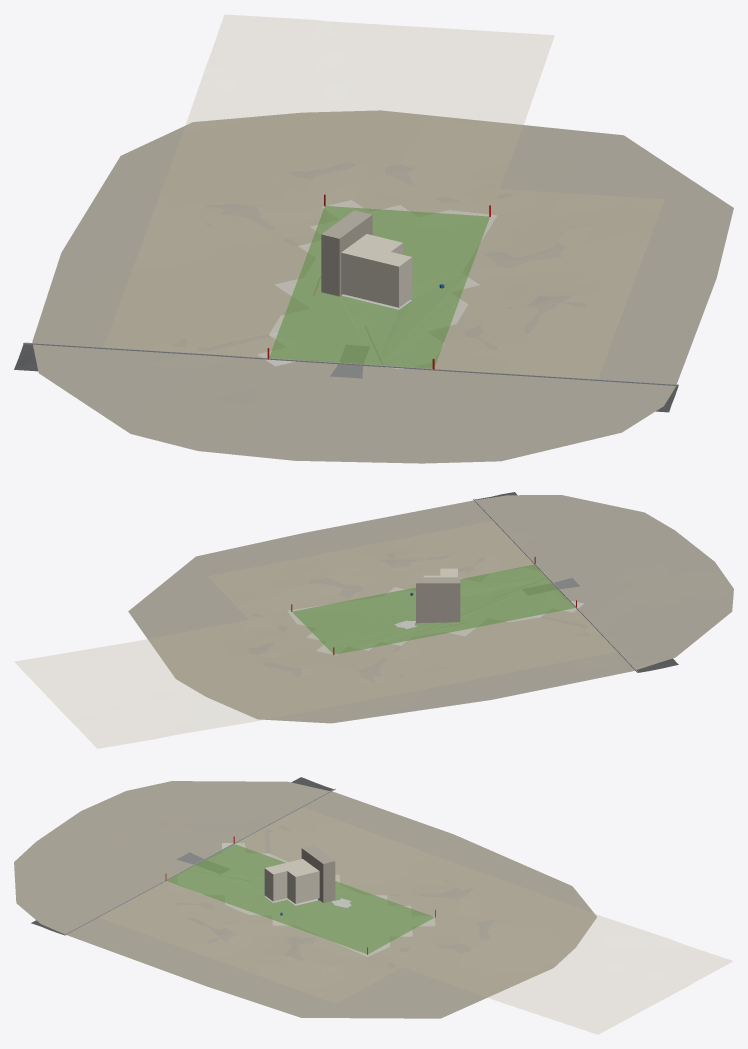
Rendered from site_5a0e2e11_glb.glb.
3 views of the same model, one above another, from view 1: azimuth 30°, elevation 25°; view 2: azimuth 150°, elevation 25°; view 3: azimuth 270°, elevation 25° (orthographic). The views are drawn at different scales.
Visible parts, largest first — view 1: Existing_ground_context, Adjoining_fill_1, Adjoining_fill_2, Adjoining_fill_0, FS_surface, ai_landscape_1, building_mv8vq97i0jw8, building, Kerb_assumed, ai_landscape_2, Driveway; view 2: Existing_ground_context, Adjoining_fill_1, Adjoining_fill_2, Adjoining_fill_0, FS_surface, ai_landscape_1, building, ai_landscape_2; view 3: Existing_ground_context, Adjoining_fill_1, Adjoining_fill_2, Adjoining_fill_0, FS_surface, ai_landscape_1, building_mv8vq97i0jw8, building, ai_landscape_2, Kerb_assumed.
Part boxes in pixels (x1=…): Existing_ground_context: x1=32, y1=110, x2=733, y2=463; Adjoining_fill_1: x1=160, y1=14, x2=554, y2=215; Adjoining_fill_2: x1=435, y1=189, x2=663, y2=378; Adjoining_fill_0: x1=104, y1=196, x2=324, y2=357; FS_surface: x1=257, y1=200, x2=497, y2=369; ai_landscape_1: x1=269, y1=206, x2=489, y2=368; building_mv8vq97i0jw8: x1=341, y1=234, x2=412, y2=307; building: x1=321, y1=210, x2=372, y2=296; Kerb_assumed: x1=23, y1=342, x2=678, y2=386; ai_landscape_2: x1=412, y1=252, x2=476, y2=284; Driveway: x1=330, y1=345, x2=369, y2=378; Existing_ground_context: x1=128, y1=495, x2=733, y2=723; Adjoining_fill_1: x1=15, y1=612, x2=374, y2=748; Adjoining_fill_2: x1=208, y1=521, x2=533, y2=619; Adjoining_fill_0: x1=334, y1=608, x2=616, y2=697; FS_surface: x1=287, y1=568, x2=583, y2=655; ai_landscape_1: x1=292, y1=564, x2=575, y2=654; building: x1=416, y1=577, x2=460, y2=623; ai_landscape_2: x1=350, y1=594, x2=415, y2=615; Existing_ground_context: x1=14, y1=781, x2=596, y2=1018; Adjoining_fill_1: x1=368, y1=880, x2=732, y2=1034; Adjoining_fill_2: x1=99, y1=881, x2=401, y2=1003; Adjoining_fill_0: x1=235, y1=807, x2=501, y2=916; FS_surface: x1=177, y1=843, x2=435, y2=956; ai_landscape_1: x1=166, y1=844, x2=434, y2=954; building_mv8vq97i0jw8: x1=264, y1=859, x2=319, y2=903; building: x1=301, y1=845, x2=335, y2=902; ai_landscape_2: x1=295, y1=900, x2=319, y2=936; Kerb_assumed: x1=64, y1=789, x2=335, y2=935.
Bounding box in the file's own units: 107 × 11 × 132.
